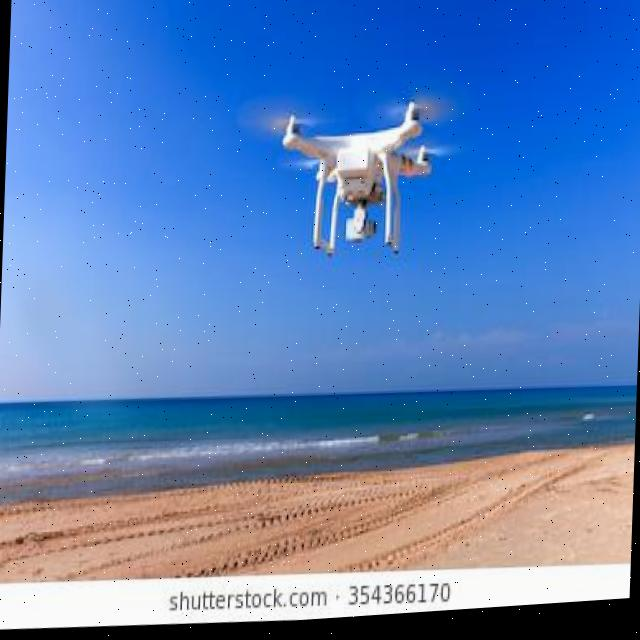drone: (239, 25, 482, 306)
